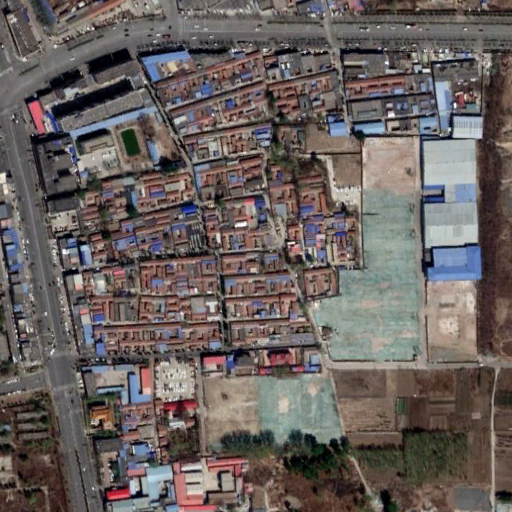cw: (311, 189, 426, 367), (257, 376, 339, 450)
